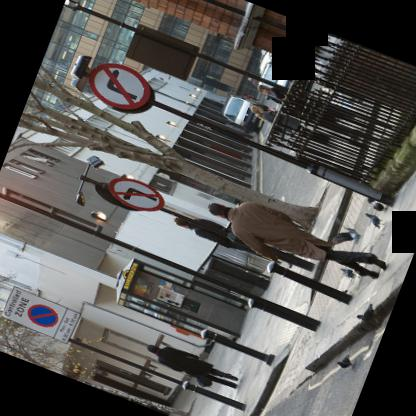handbag: (157, 357, 213, 386)
